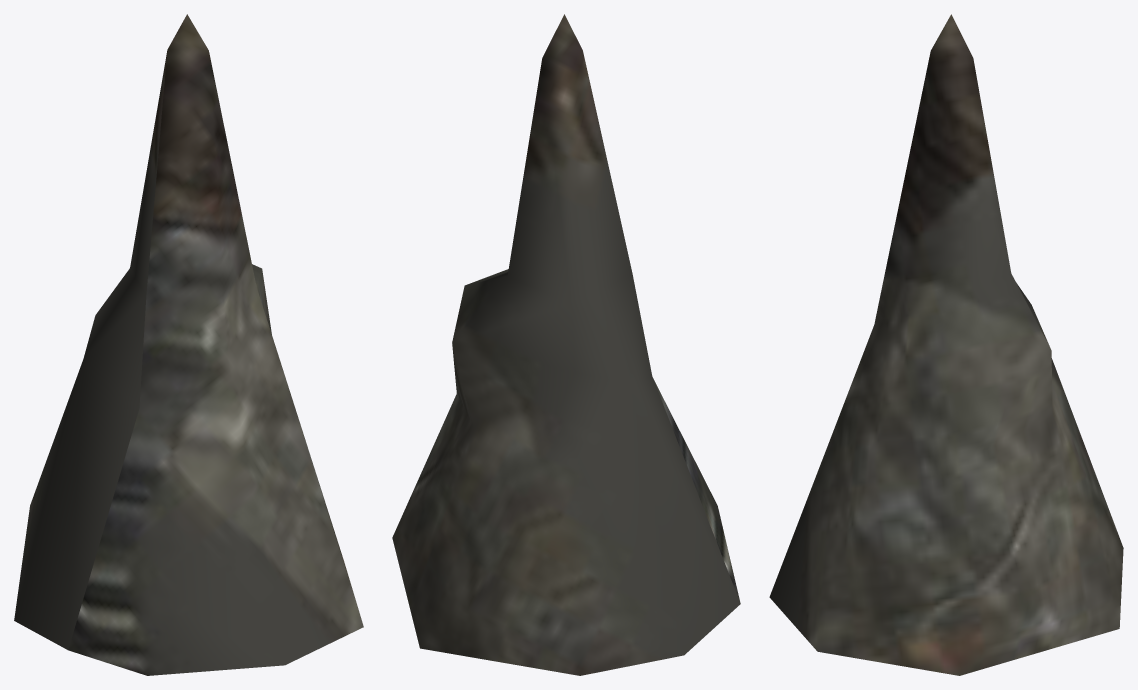
Rendered from Stal3.fbx.
The picture shows the model from 3 angles, left to right: view 1: azimuth 30°, elevation 25°; view 2: azimuth 150°, elevation 25°; view 3: azimuth 270°, elevation 25°; orthographic projection.
Visible parts, largest first — view 1: Stal2_polySurface14; view 2: Stal2_polySurface14; view 3: Stal2_polySurface14.
Part boxes in pixels (left/top/right/bottom): Stal2_polySurface14: left=14, top=14, right=363, bottom=675; Stal2_polySurface14: left=392, top=14, right=740, bottom=675; Stal2_polySurface14: left=769, top=14, right=1123, bottom=675.
Bounding box in the file's own units: 0.7923 × 1.45 × 0.793.
